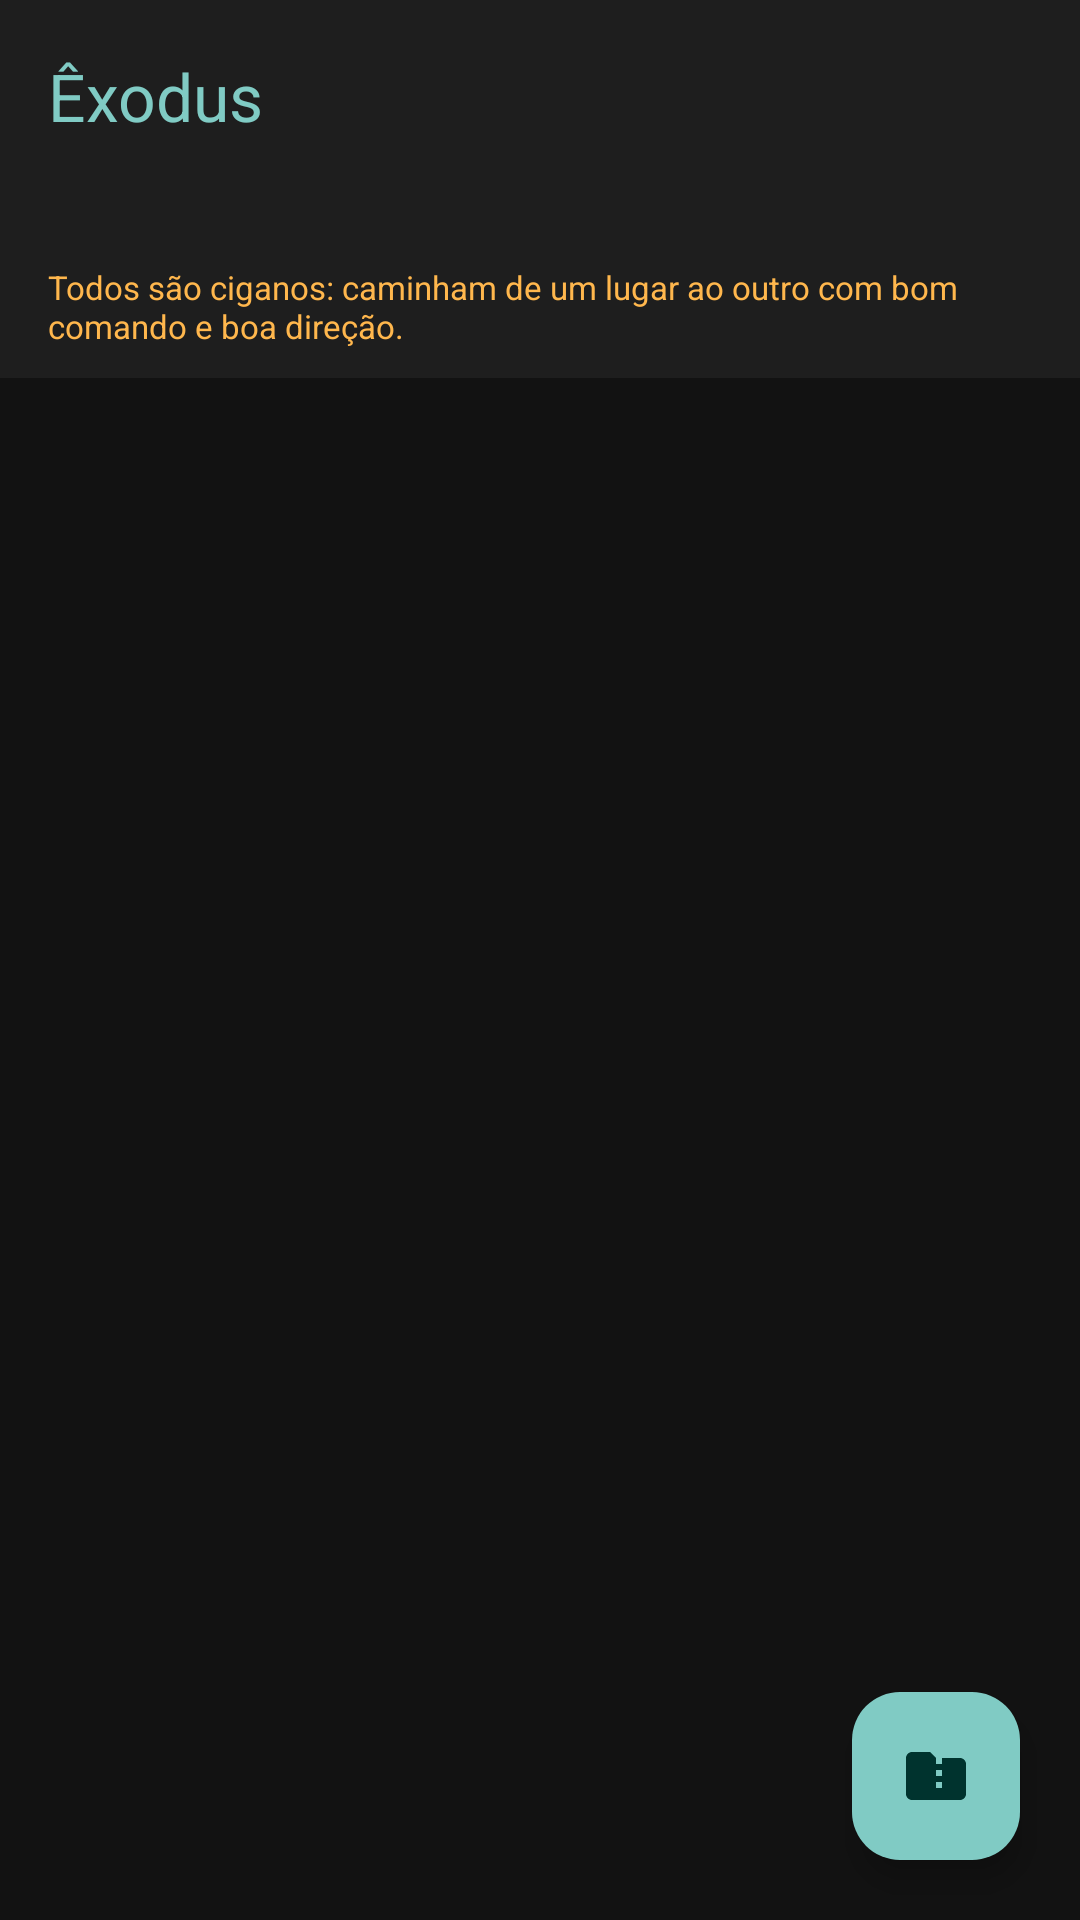

Icon bounding boxes for this 1080 x 1920 phone screenshot, format (x1, y1, x2, y2):
Zipar pasta: (852, 1692, 1020, 1860)
